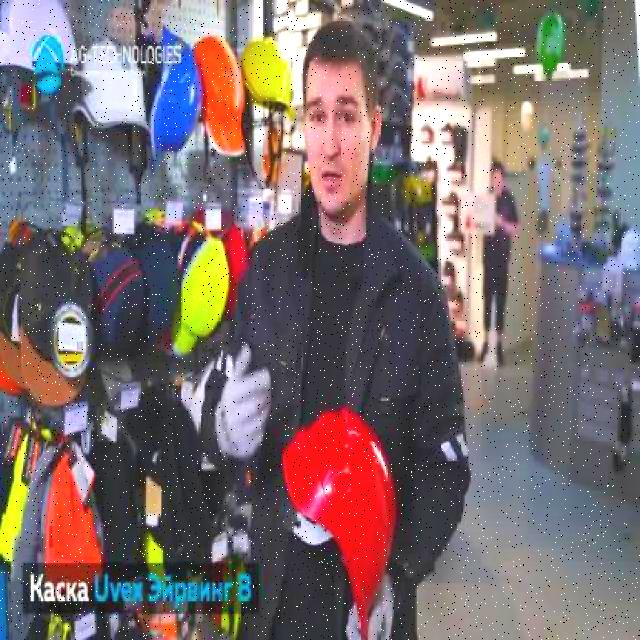Gloves: (216, 340, 272, 465), (344, 570, 398, 638)
Helmet: (280, 402, 400, 638), (147, 23, 202, 174), (74, 33, 154, 135), (192, 36, 250, 159), (0, 0, 86, 72), (238, 34, 296, 120)
